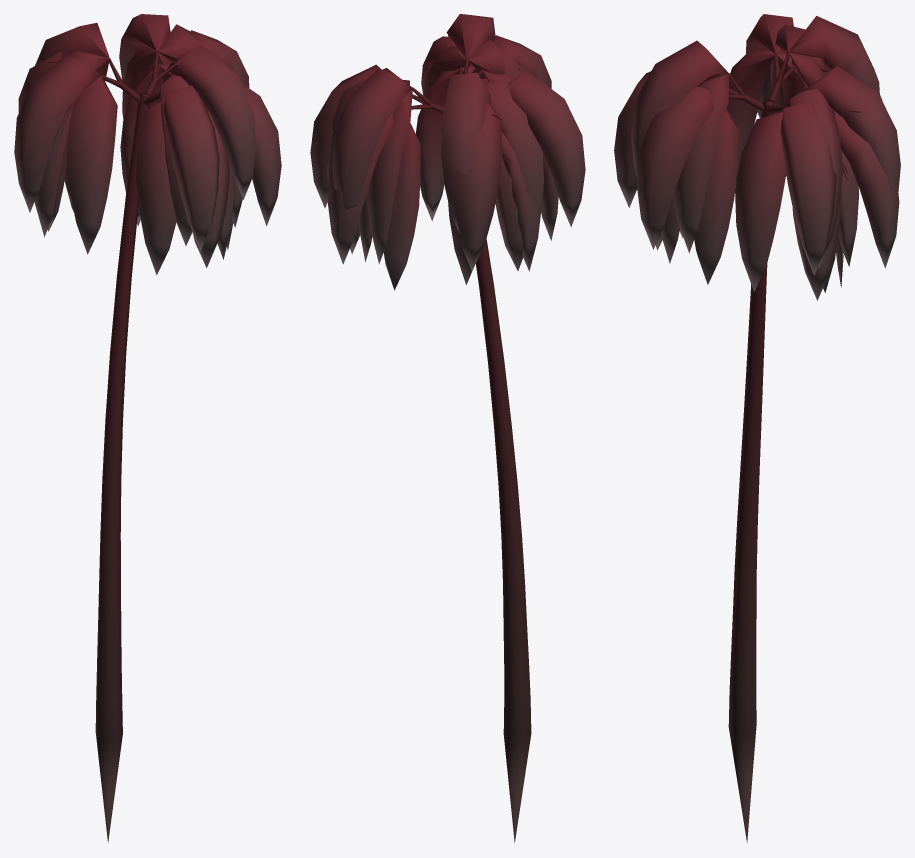
File: plants-trees-palms-red-palm-tree_v4.fbx
The picture shows the model from 3 angles, left to right: view 1: azimuth 30°, elevation 25°; view 2: azimuth 150°, elevation 25°; view 3: azimuth 270°, elevation 25°; orthographic projection. The views are drawn at different scales.
Visible parts, largest first — view 1: Red Palm Tree_v4; view 2: Red Palm Tree_v4; view 3: Red Palm Tree_v4.
Part boxes in pixels (<box>): Red Palm Tree_v4: <box>14,14,281,842</box>; Red Palm Tree_v4: <box>310,14,585,842</box>; Red Palm Tree_v4: <box>614,14,900,843</box>.
Size of the model in its own units: 1.62 by 5 by 1.56.
